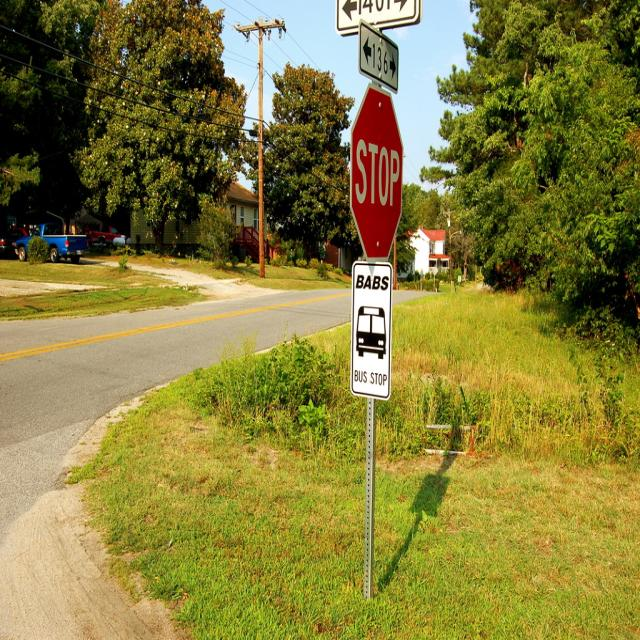Stop-sign: (349, 79, 406, 261)
